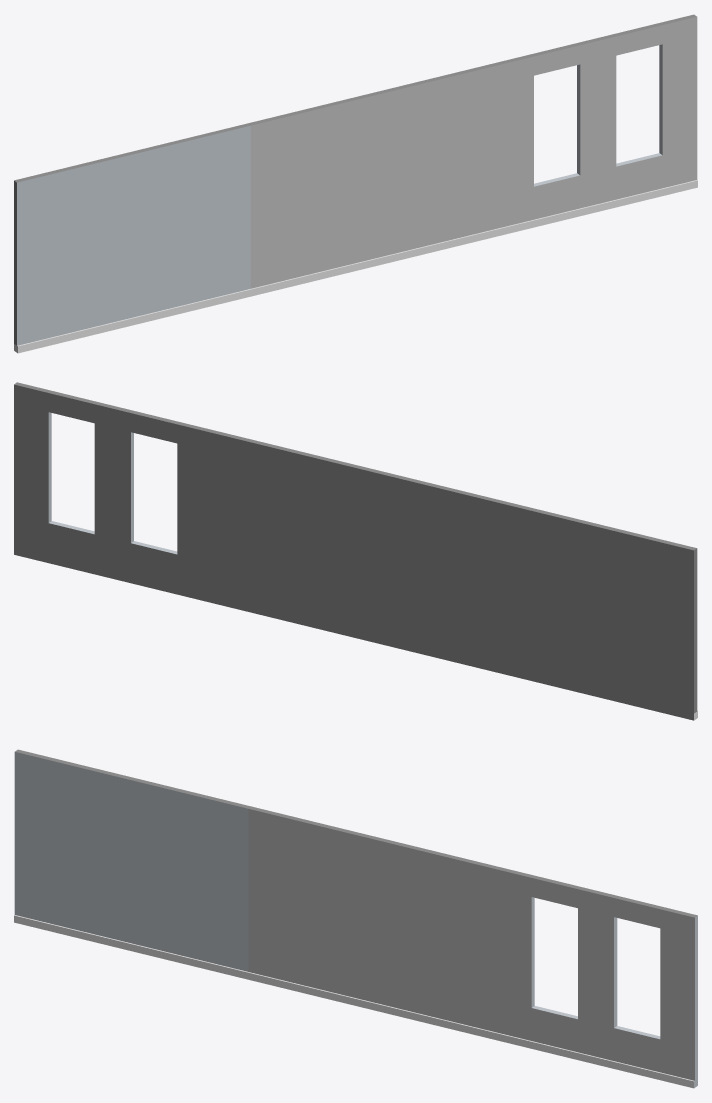
File: Wall 1.FBX
3 views of the same model, one above another, from view 1: azimuth 30°, elevation 25°; view 2: azimuth 150°, elevation 25°; view 3: azimuth 330°, elevation 25° (orthographic).
Visible parts, largest first — view 1: Wall 1; view 2: Wall 1; view 3: Wall 1.
Part boxes in pixels (<box>): Wall 1: <box>14,14,697,353</box>; Wall 1: <box>14,382,697,720</box>; Wall 1: <box>14,749,697,1088</box>.
Bounding box in the file's own units: 1127 × 269 × 11.22.
